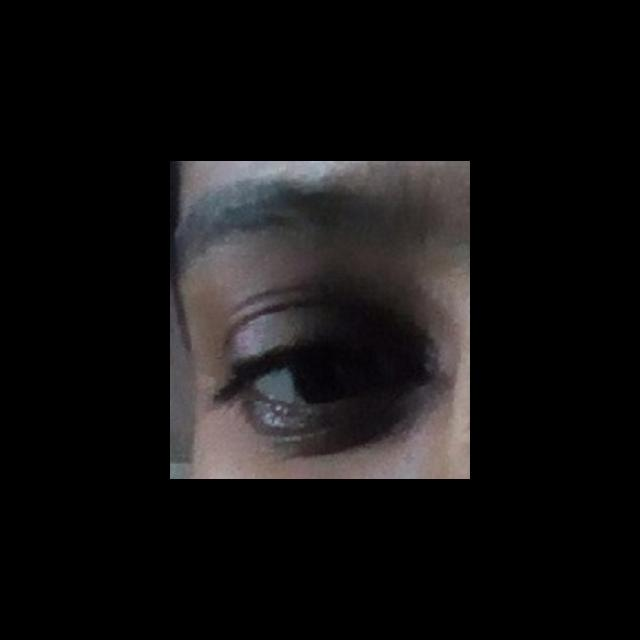eye: (249, 355, 395, 405)
iris: (288, 359, 355, 402)
